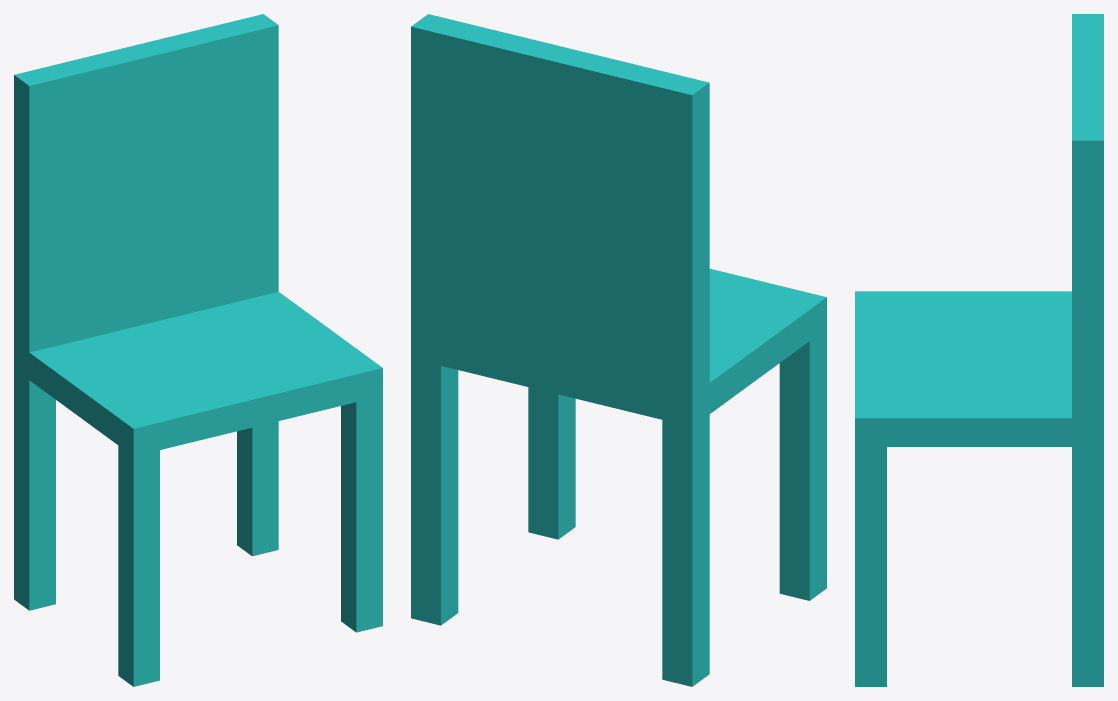
The model's file is chair.fbx.
3 views of the same model, side by side, from view 1: azimuth 30°, elevation 25°; view 2: azimuth 150°, elevation 25°; view 3: azimuth 270°, elevation 25° (orthographic). The views are drawn at different scales.
Parts seen in each view (by area): view 1: chair; view 2: chair; view 3: chair.
Boxes of the visible parts, bbox=[...] form: chair: bbox=[14, 14, 382, 686]; chair: bbox=[411, 14, 826, 686]; chair: bbox=[855, 14, 1103, 686].
Size of the model in its own units: 47 by 39 by 94.5.
